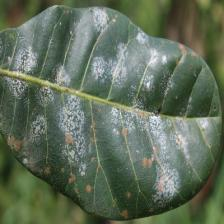red rust: (0, 4, 223, 221)
